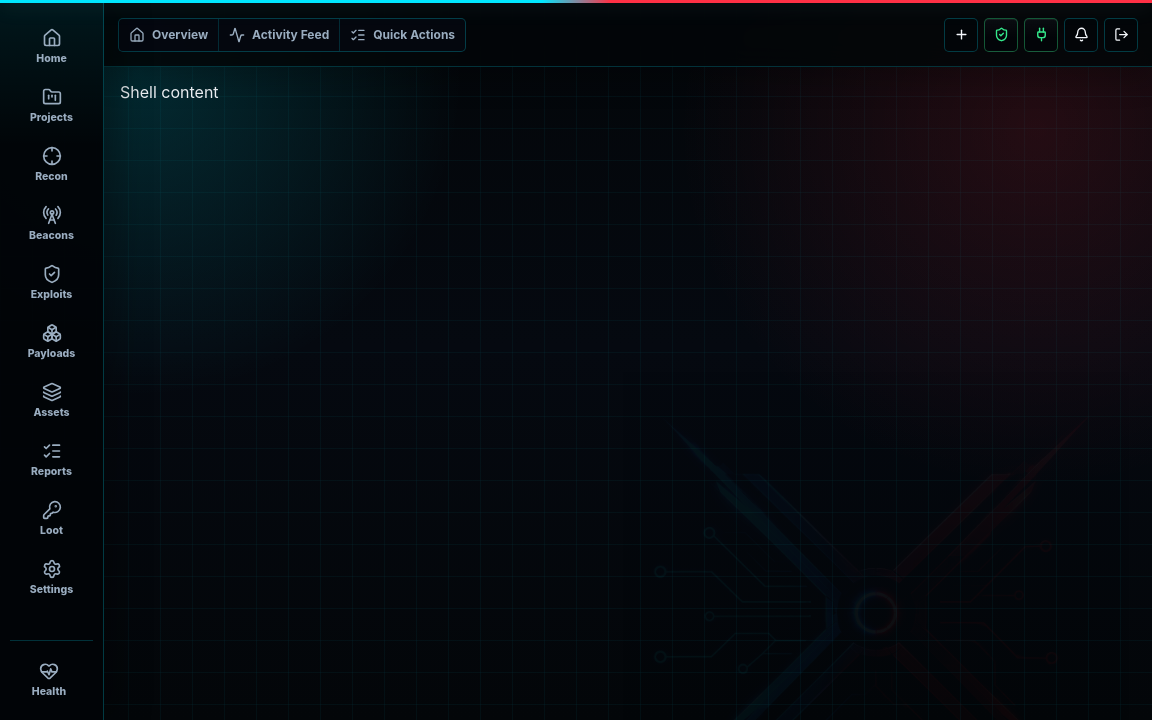
Test: AppShell › opens notification management without wiring a backend notification system
What coordinates should you click on to do the following:
click the button named "Notifications"
I would click on:
 (1081, 34)
Its box is [1064,18,1098,52].
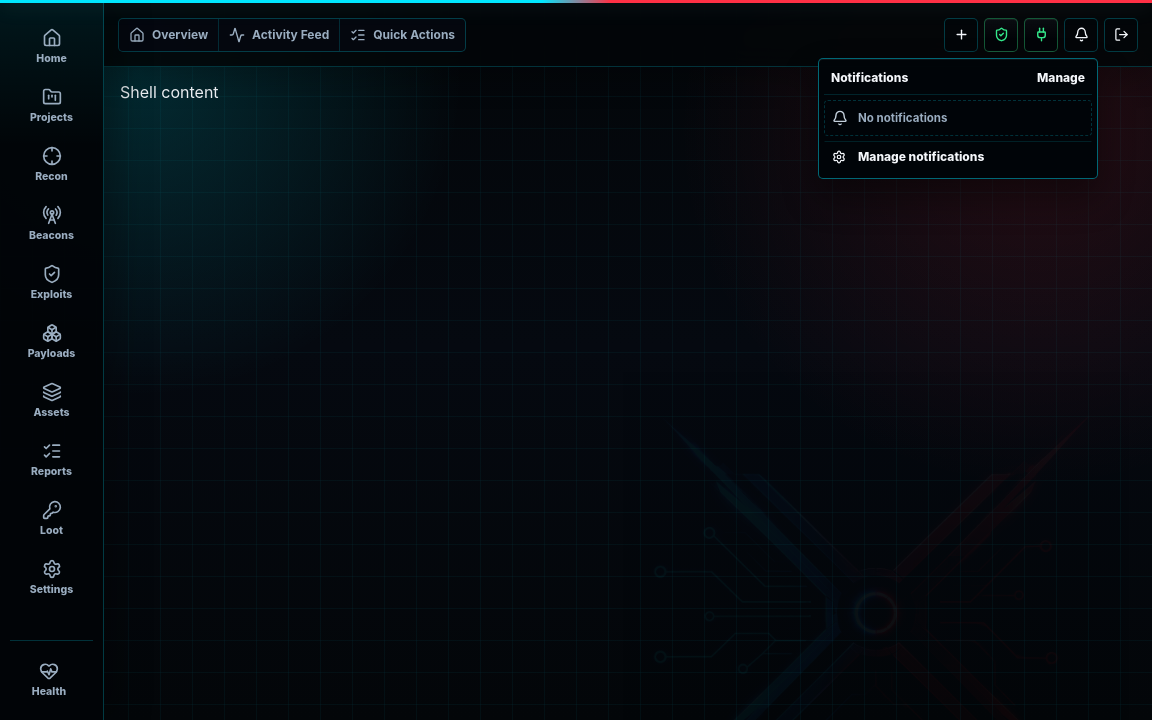
Now the text "No notifications" is shown, box [858,110,947,124]
